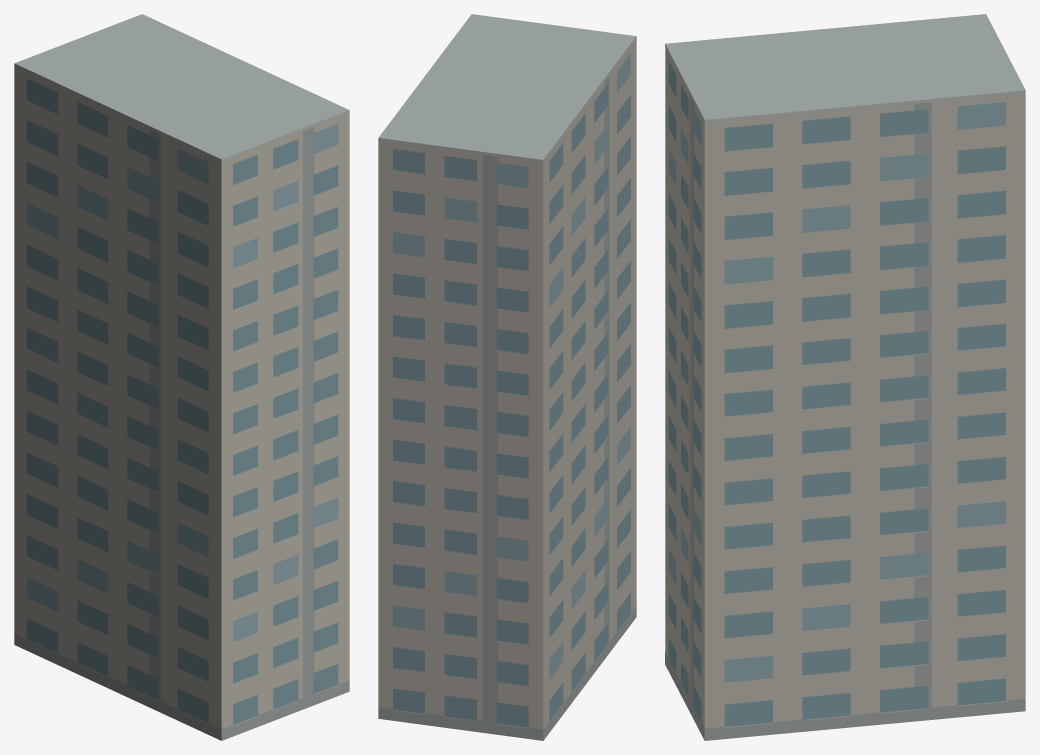
The model's file is residential-bcf04242-e48e-4258-ac19-63f26952ebdb.glb.
3 views of the same model, side by side, from view 1: azimuth 30°, elevation 25°; view 2: azimuth 150°, elevation 25°; view 3: azimuth 270°, elevation 25° (orthographic). The views are drawn at different scales.
Visible parts, largest first — view 1: residential-bcf04242-e48e-4258-ac19-63f26952ebdb.tmp; view 2: residential-bcf04242-e48e-4258-ac19-63f26952ebdb.tmp; view 3: residential-bcf04242-e48e-4258-ac19-63f26952ebdb.tmp.
Part boxes in pixels (x1,y1,x2,y2): residential-bcf04242-e48e-4258-ac19-63f26952ebdb.tmp: [14, 14, 349, 740]; residential-bcf04242-e48e-4258-ac19-63f26952ebdb.tmp: [378, 14, 636, 740]; residential-bcf04242-e48e-4258-ac19-63f26952ebdb.tmp: [665, 14, 1025, 740].
Bounding box in the file's own units: 16.86 × 46 × 24.22.
